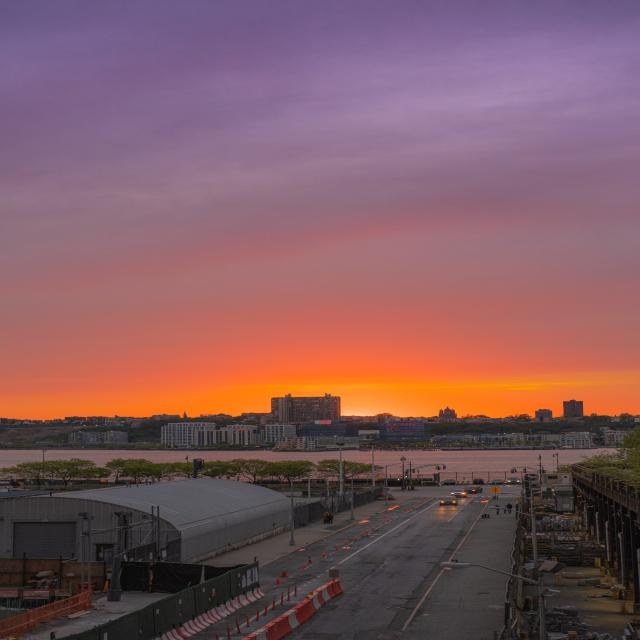Street Light: (289, 473, 334, 545), (489, 507, 535, 566), (497, 492, 535, 545), (350, 466, 378, 520), (385, 462, 410, 506), (508, 478, 533, 512)
